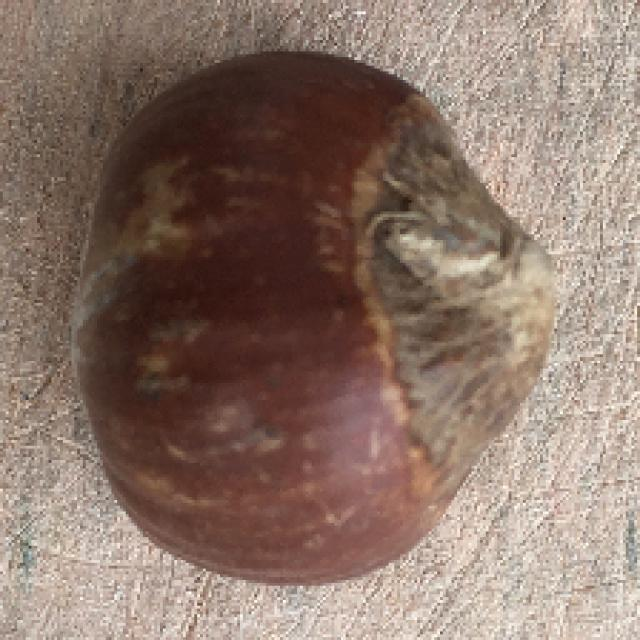DamagedHazelnut: (76, 46, 558, 583)
